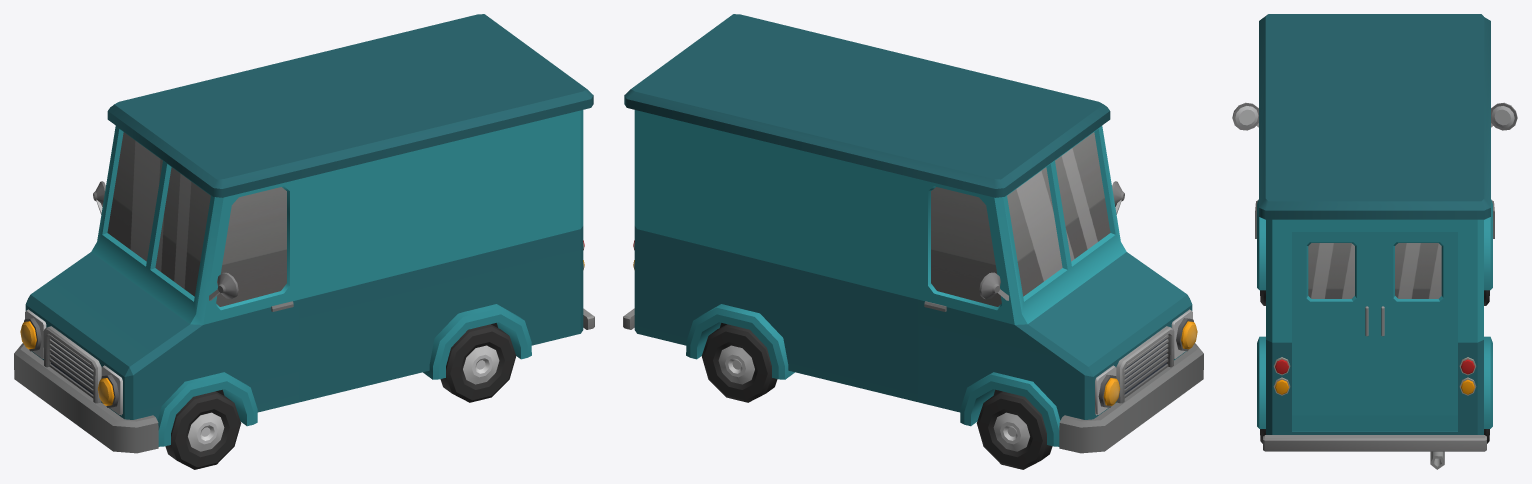
File: Car_16_E.gltf
The picture shows the model from 3 angles, left to right: view 1: azimuth 30°, elevation 25°; view 2: azimuth 150°, elevation 25°; view 3: azimuth 270°, elevation 25°; orthographic projection. The views are drawn at different scales.
Parts seen in each view (by area): view 1: Car_16_E, RL, FL; view 2: Car_16_E, RR, FR; view 3: Car_16_E.
Boxes of the visible parts, x1,y1,x2,y2 form: Car_16_E: (14,14,594,453); RL: (440,324,516,402); FL: (165,391,241,469); Car_16_E: (623,14,1203,453); RR: (701,324,777,402); FR: (976,391,1052,469); Car_16_E: (1232,14,1517,469).
Size of the model in its own units: 3.66 by 2.04 by 1.8.
Materials: 4 (4 with a texture image).
